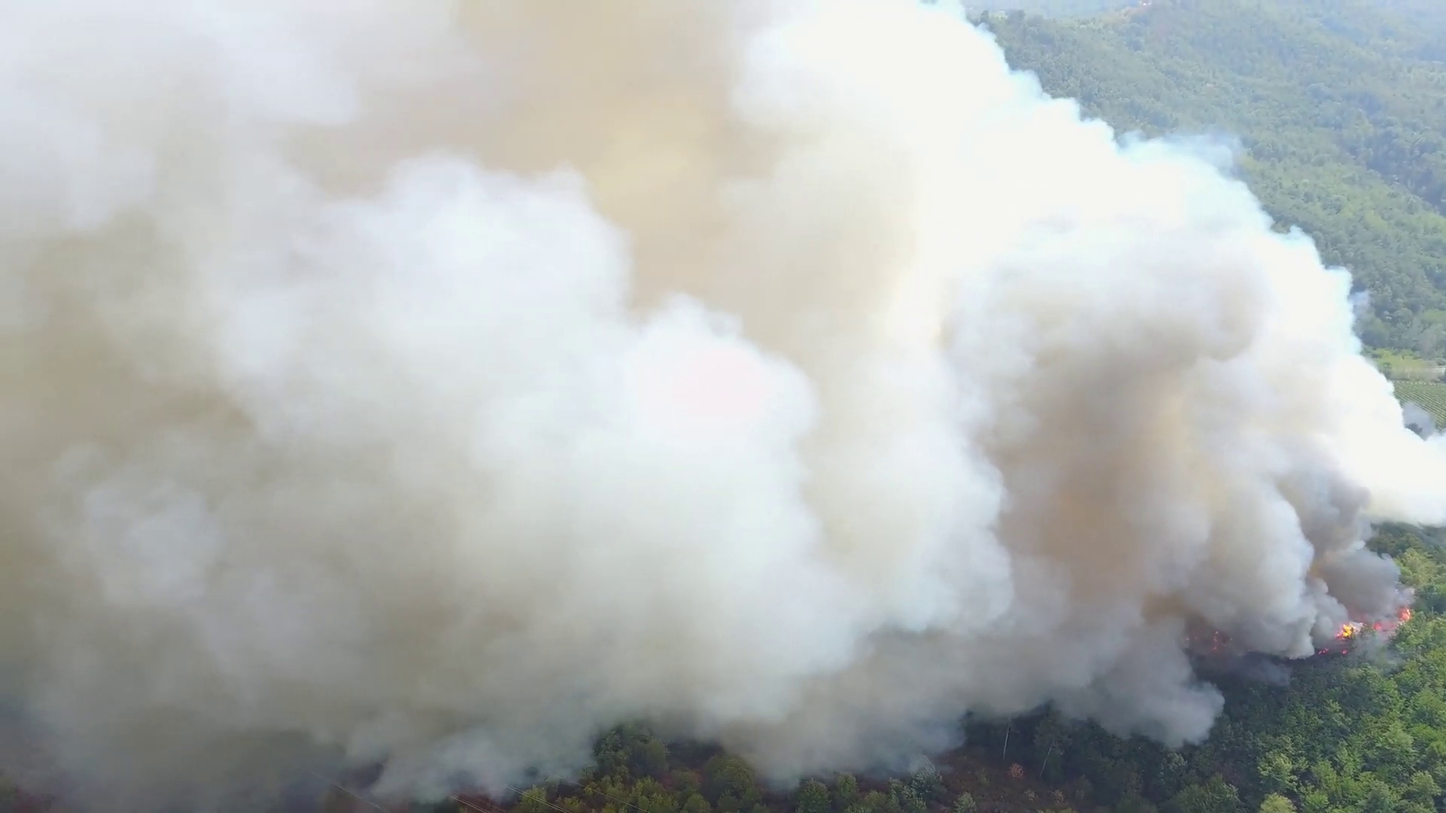forest_fire: (1335, 606, 1411, 641)
